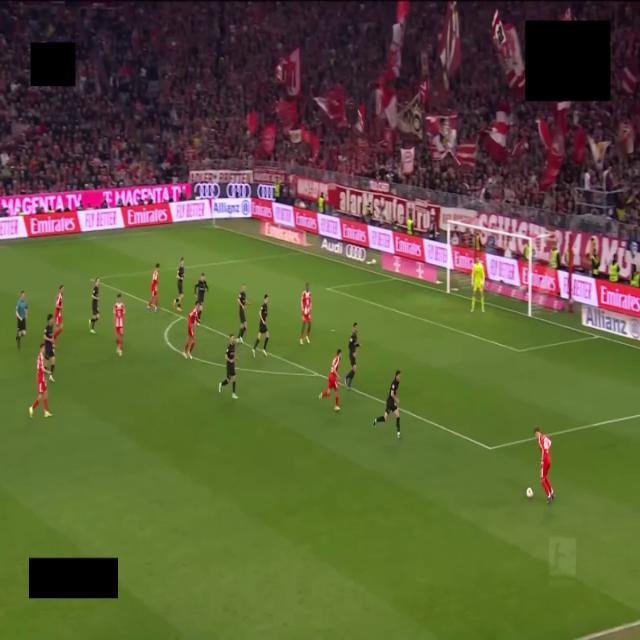ball: (526, 487, 534, 500)
player: (373, 370, 400, 438), (29, 343, 51, 417), (534, 427, 554, 503), (319, 350, 341, 411), (219, 334, 237, 399), (252, 295, 268, 358), (344, 323, 359, 389), (184, 303, 202, 358), (472, 258, 485, 312), (44, 314, 54, 382), (300, 284, 311, 344), (114, 294, 124, 355), (238, 284, 248, 343), (147, 264, 159, 312), (54, 286, 63, 345), (174, 258, 184, 311), (90, 279, 99, 334), (194, 272, 208, 306)
referee: (16, 290, 27, 348)
